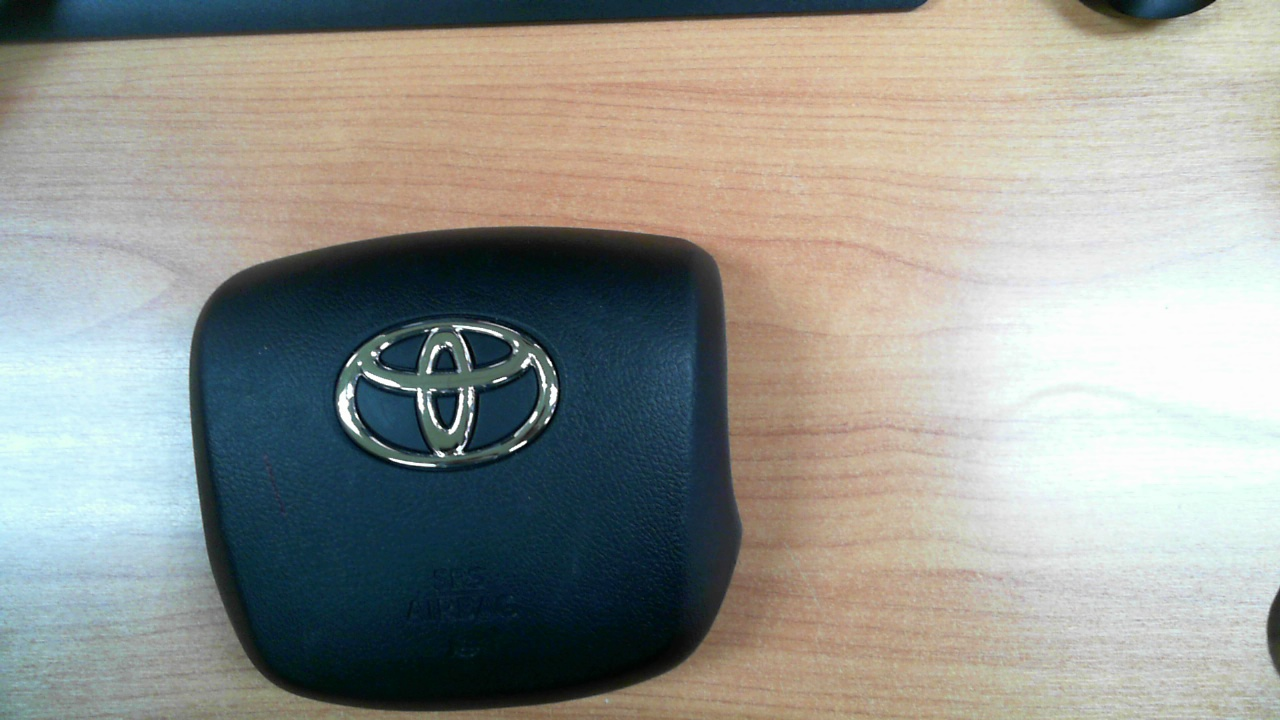Airbag: (188, 229, 740, 709)
Toyota: (335, 317, 559, 469)
